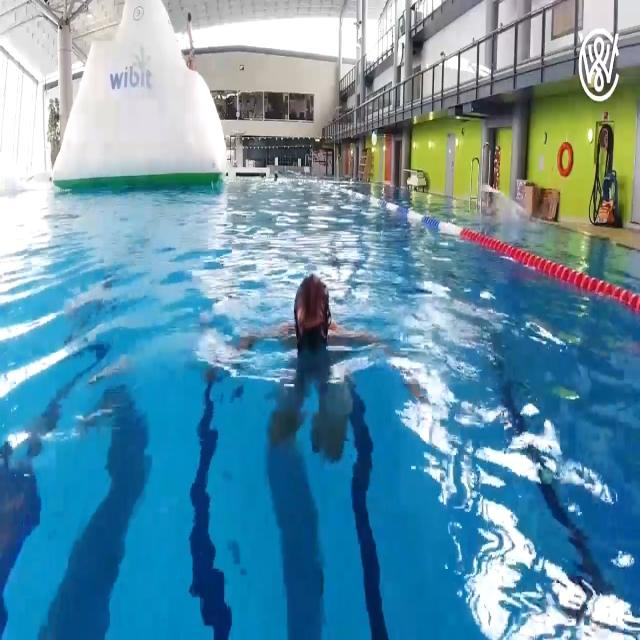Swimming: (283, 268, 346, 396)
